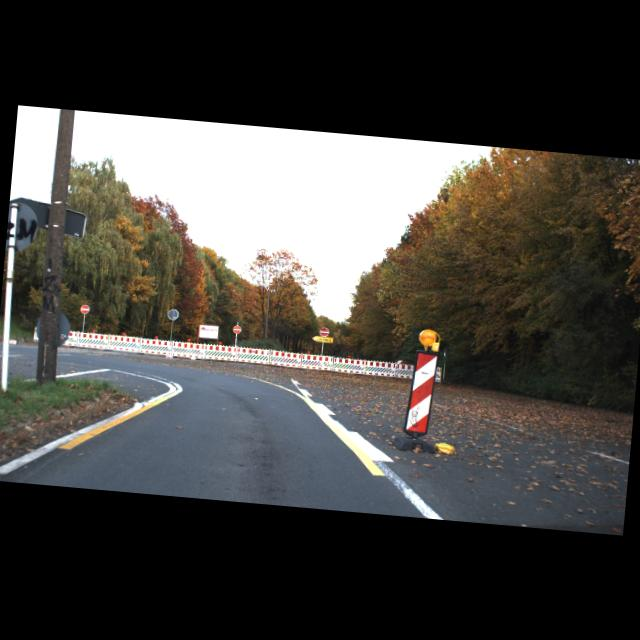other: (79, 304, 89, 314), (318, 326, 328, 336), (232, 324, 242, 334)
